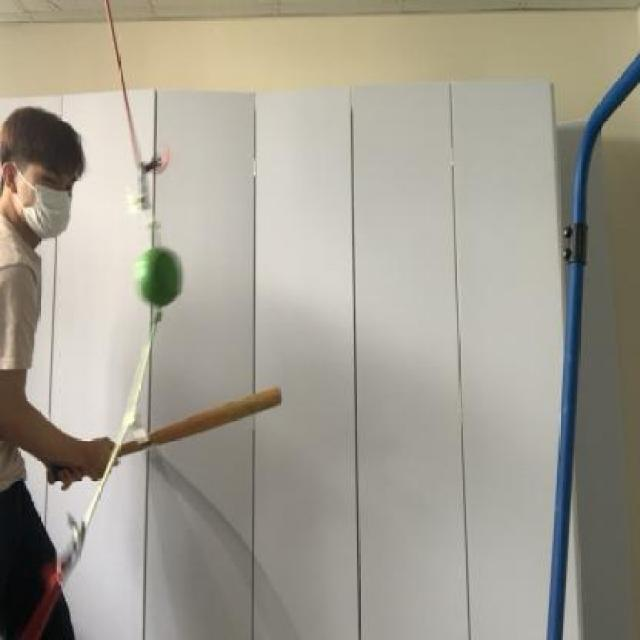baseball: (123, 235, 188, 322)
